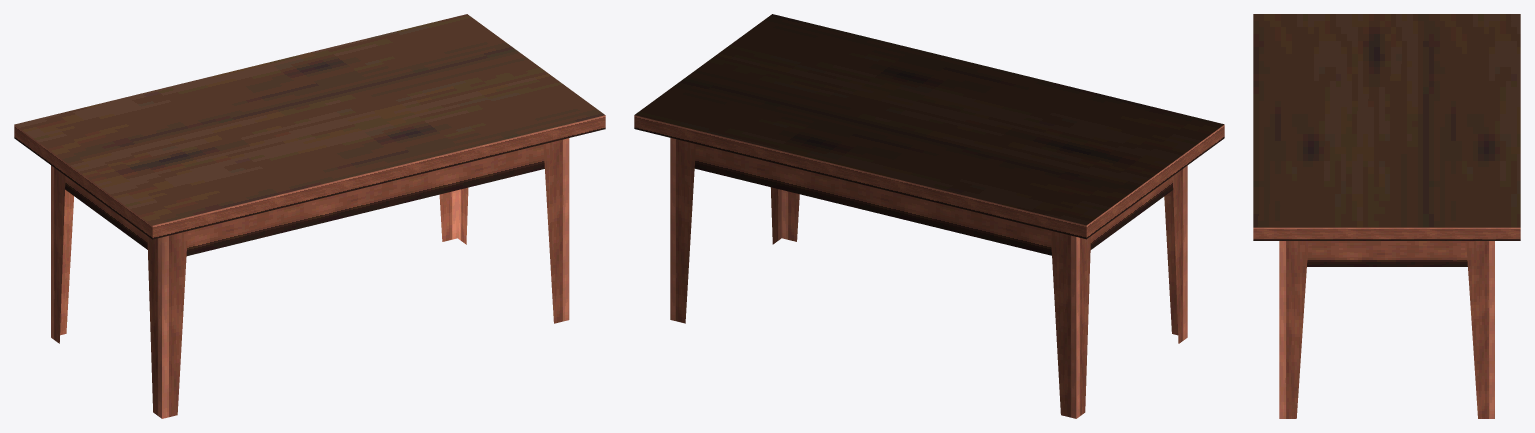
The model's file is Pwooden_table1Z.obj.
3 renders of one model, left to right at view 1: azimuth 30°, elevation 25°; view 2: azimuth 150°, elevation 25°; view 3: azimuth 270°, elevation 25°, orthographic. The views are drawn at different scales.
Size of the model in its own units: 1804 by 796 by 954.
Materials: 2 (2 with a texture image).
